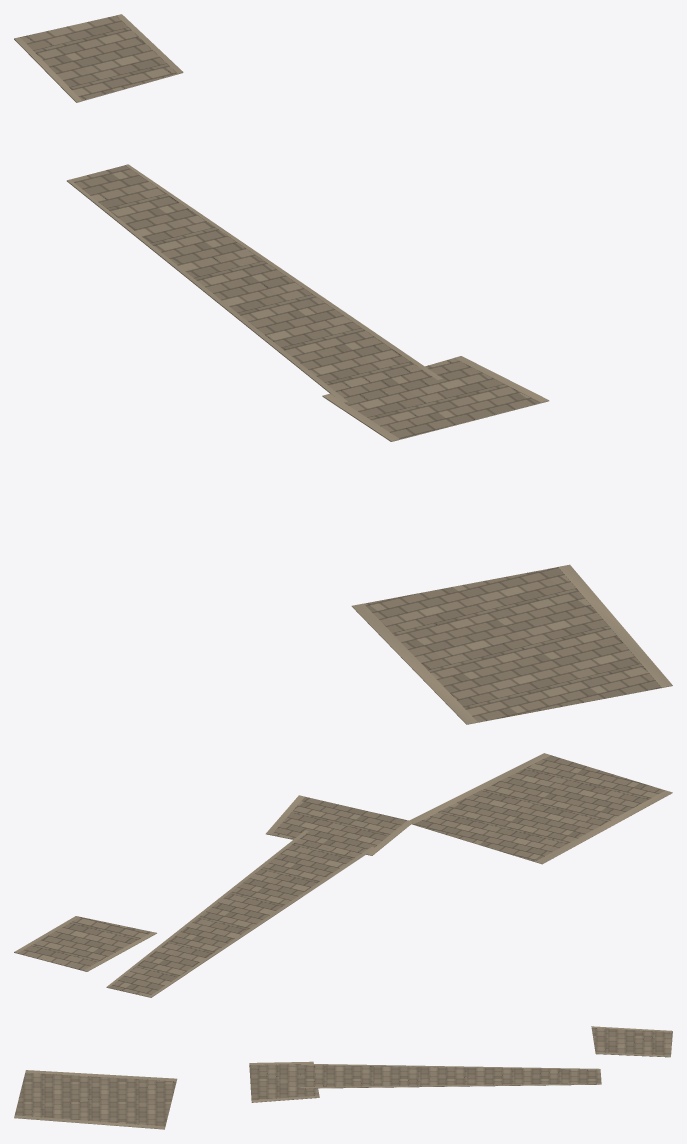
The model's file is RoadFamilyV1.glb.
3 views of the same model, one above another, from view 1: azimuth 30°, elevation 25°; view 2: azimuth 150°, elevation 25°; view 3: azimuth 270°, elevation 25° (orthographic). The views are drawn at different scales.
Visible parts, largest first — view 1: ForegroundRoad, MainRoad, GateThreshold, UpperRoad; view 2: ForegroundRoad, MainRoad, GateThreshold, UpperRoad; view 3: ForegroundRoad, MainRoad, GateThreshold, UpperRoad.
Boxes of the visible parts, <box> form: ForegroundRoad: <box>351,564,672,724</box>; MainRoad: <box>67,164,442,402</box>; GateThreshold: <box>322,356,549,441</box>; UpperRoad: <box>14,14,183,102</box>; ForegroundRoad: <box>409,753,672,864</box>; MainRoad: <box>106,830,374,997</box>; GateThreshold: <box>266,795,413,855</box>; UpperRoad: <box>14,916,156,971</box>; ForegroundRoad: <box>14,1070,177,1129</box>; MainRoad: <box>300,1063,601,1088</box>; GateThreshold: <box>249,1061,319,1102</box>; UpperRoad: <box>591,1026,672,1057</box>.
Bounding box in the file's own units: 15.2 × 8.08 × 56.11.
Materials: 3 (3 with a texture image).
